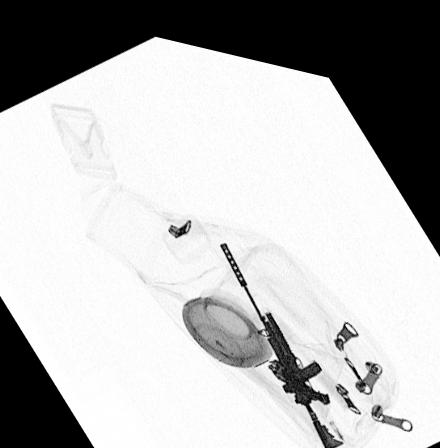Gun: (217, 231, 343, 435)
